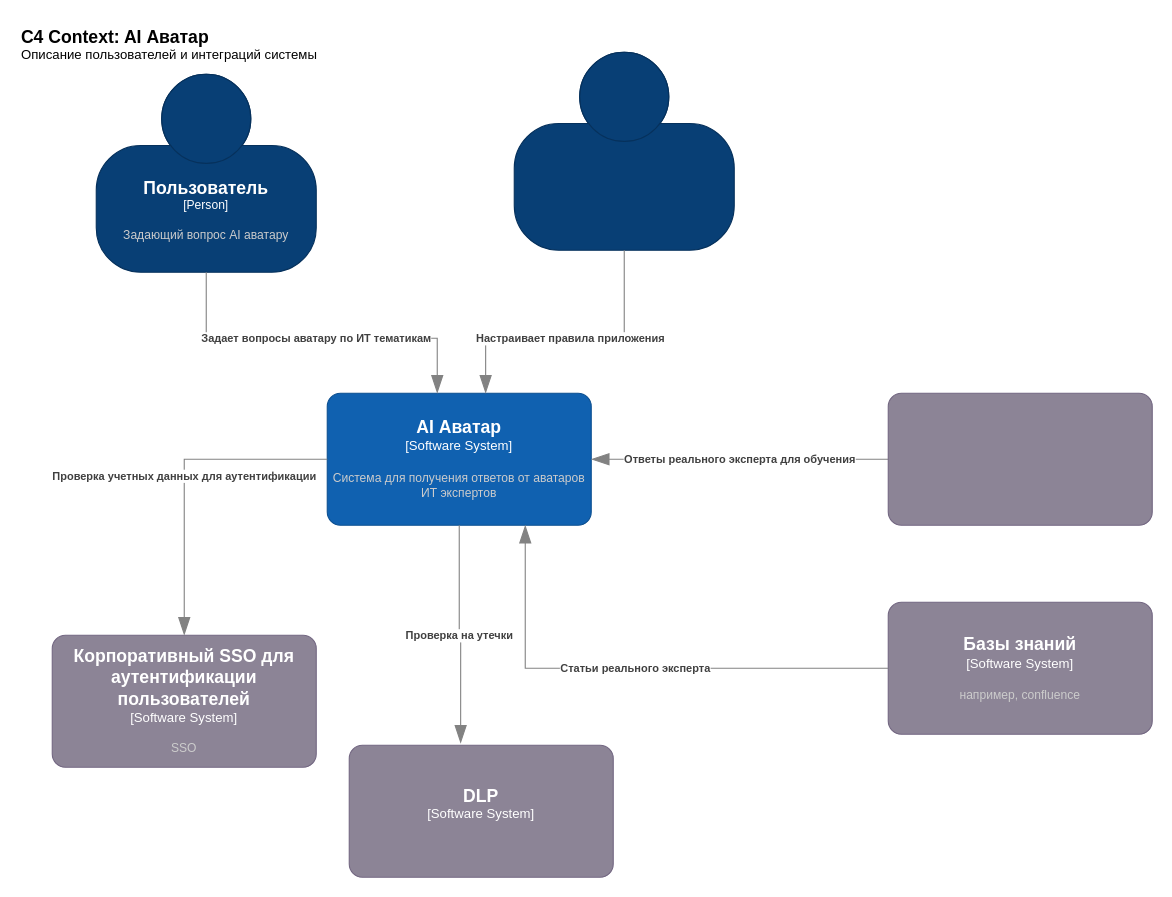
Some shapes in this 1172 by 897 pixel diagram are drawn without their labels. The shapes that lost their labels are listed below. From the top down, each one's centre as x and y in pixels, then its label:
[623,150]: Администратор системы [Person] Наполнение данными, верификация
[1019,458]: Трекер задач [Software System] Например, Jira, Яга
